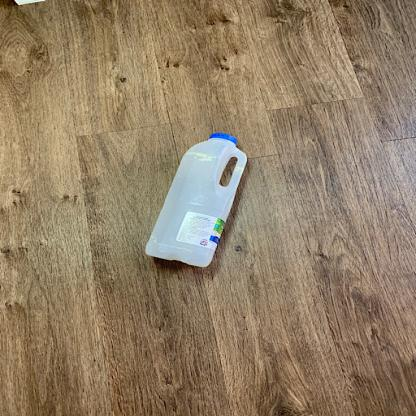trash: (143, 131, 250, 269)
